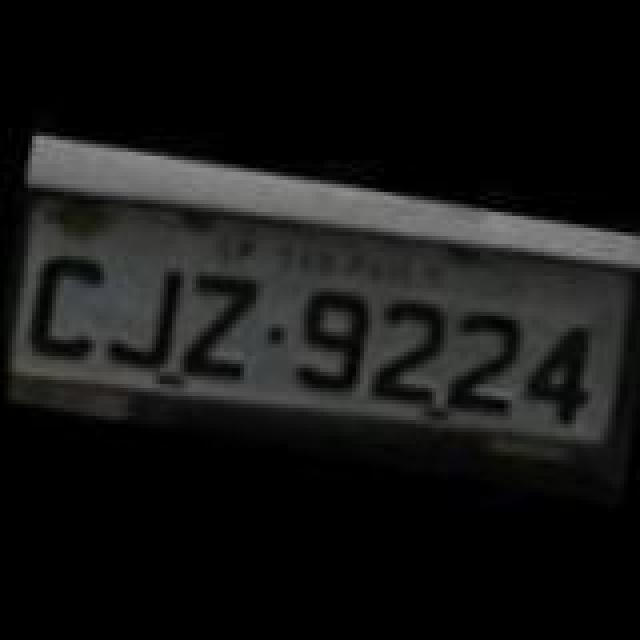2: (352, 288, 452, 400), (444, 306, 532, 414)
4: (510, 308, 602, 436)
9: (284, 270, 376, 398)
C: (12, 244, 104, 368)
J: (100, 252, 192, 368)
Z: (174, 256, 262, 380)
